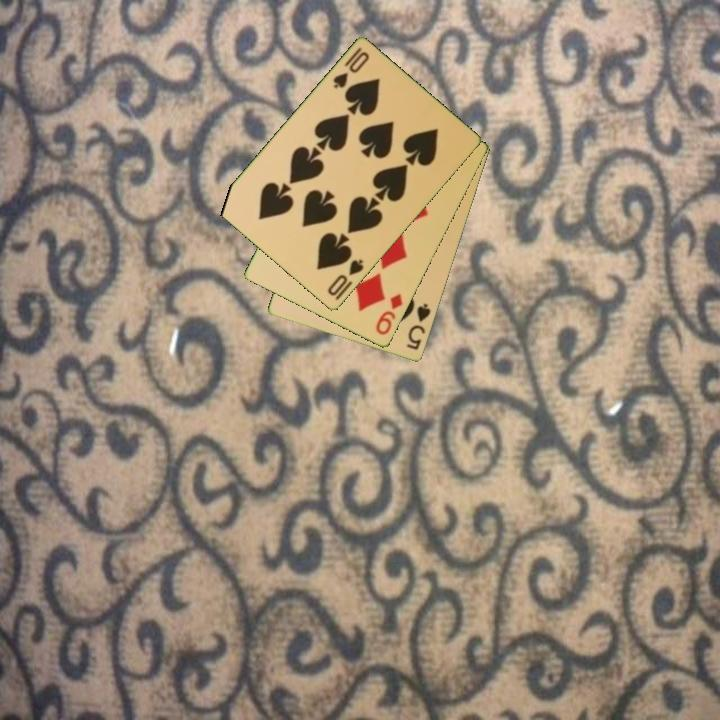10s: (329, 44, 372, 92), (324, 256, 367, 299)
5s: (403, 300, 434, 353)
9d: (372, 291, 406, 338)
